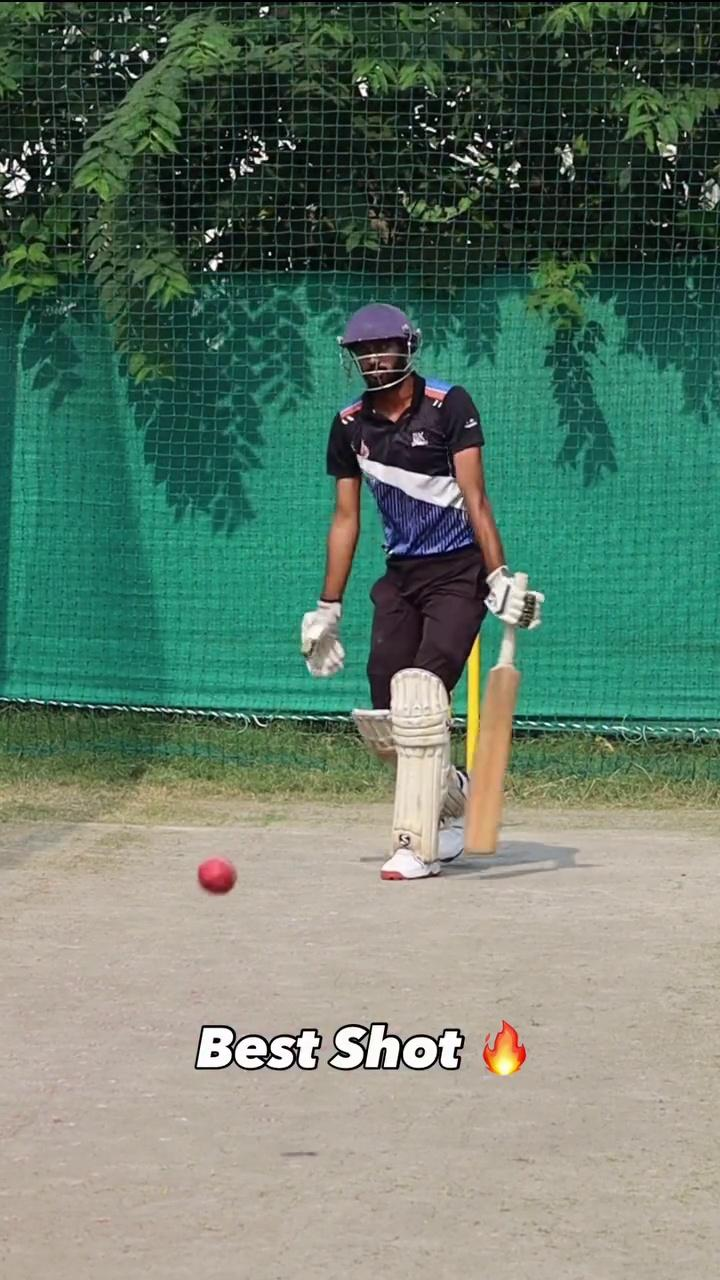bat: (460, 664, 524, 861)
